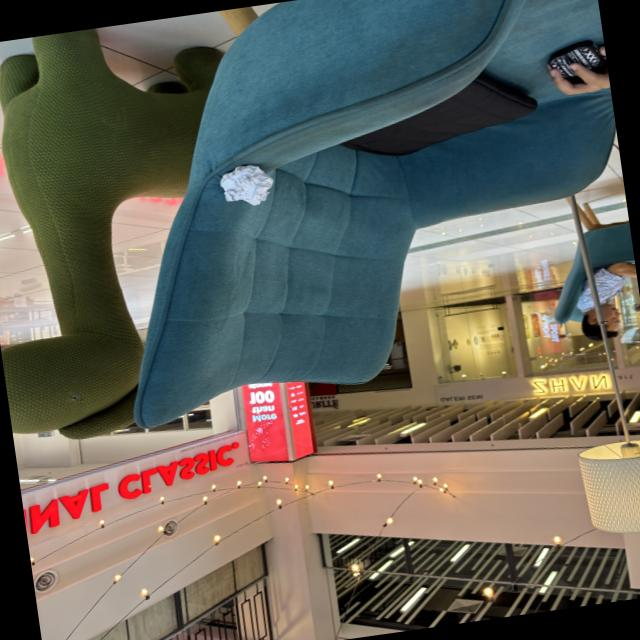crumpled_paper: (216, 160, 279, 213)
